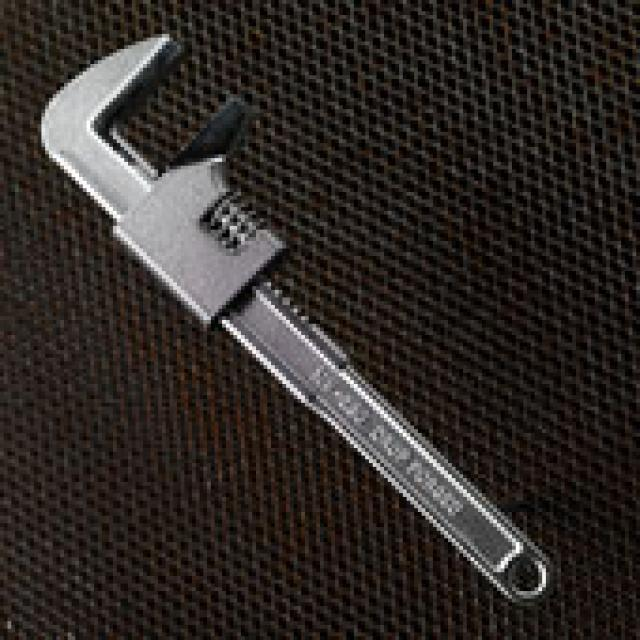wrench: (39, 38, 556, 604)
